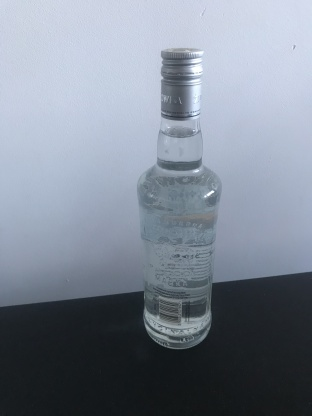nakretka: (158, 45, 203, 123)
